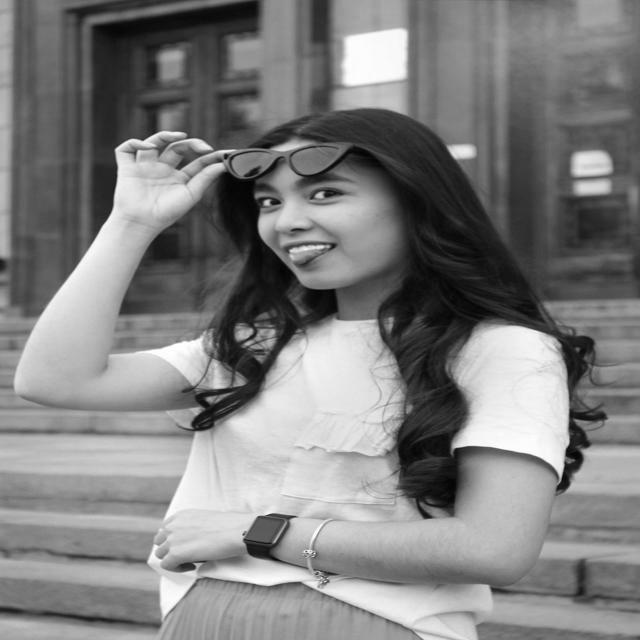Happiness: (252, 148, 400, 292)
